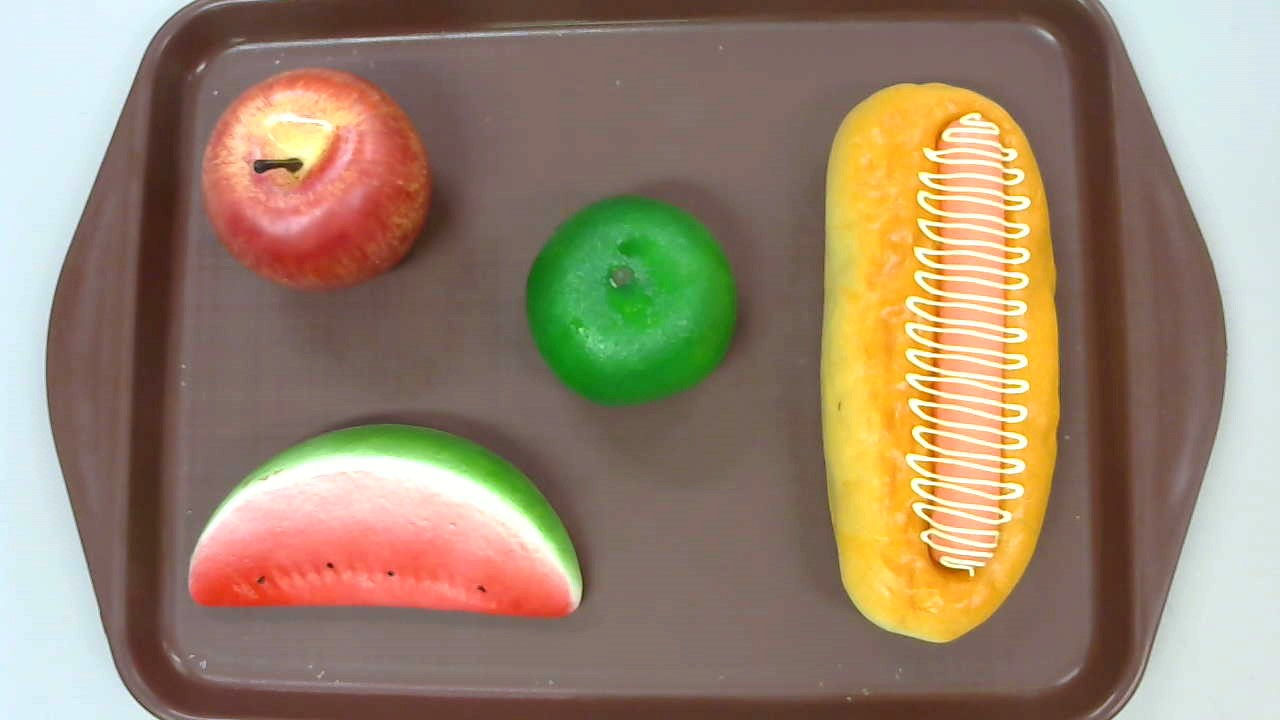green orange: (525, 195, 736, 409)
hot dog: (818, 82, 1061, 641)
red apple: (201, 67, 432, 293)
watermelon: (188, 423, 583, 620)
